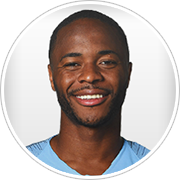face: (45, 35, 134, 124)
